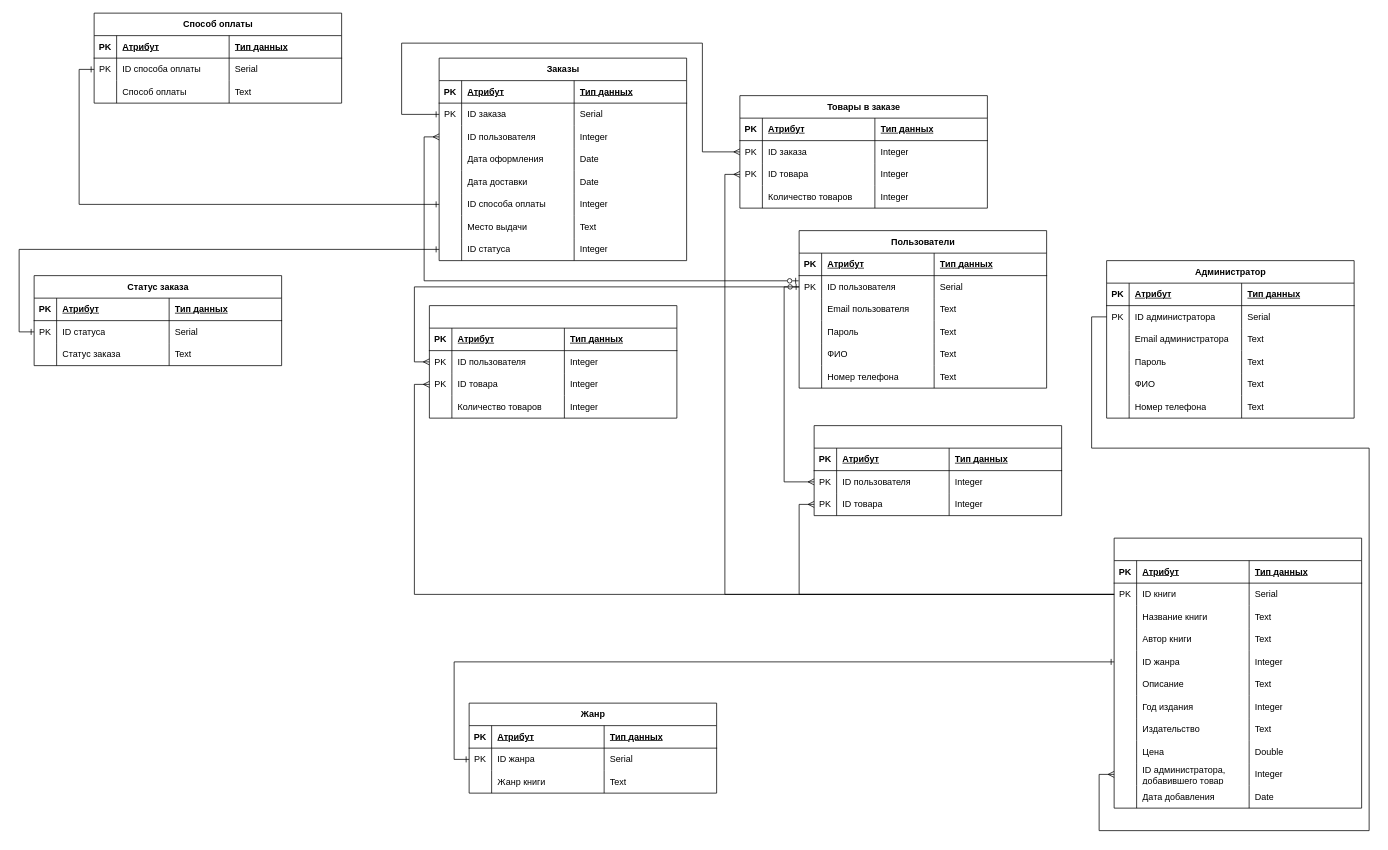
This 1388x850 diagram has some shape labels left out. The shapes that lost their labels are listed below. From the top down, each one's box as (x1, y1, x2, y2) in pixels, then its label:
(429, 305, 677, 418): Товары в корзине пользователей
(813, 425, 1062, 516): Избранные товары пользователей
(1113, 537, 1362, 808): Книга
